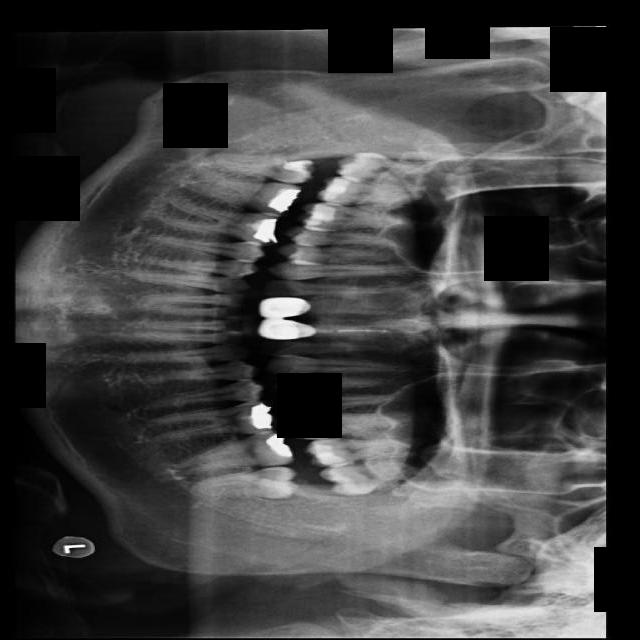3M ESPE Implant: (334, 150, 428, 188)
52: (242, 170, 302, 224), (241, 423, 296, 479), (255, 296, 315, 341), (247, 174, 300, 222), (300, 200, 348, 234), (228, 400, 272, 434), (317, 176, 365, 205), (237, 212, 277, 245), (269, 159, 316, 184), (238, 202, 261, 212), (233, 434, 254, 443), (240, 212, 262, 217), (217, 260, 232, 264), (222, 242, 238, 245), (225, 431, 243, 433)
73: (305, 322, 396, 337), (88, 598, 92, 610)
BioHorizons Implant: (304, 438, 409, 467)
BioLife Implant: (316, 452, 417, 502)
Biomet 3i Implant: (192, 464, 301, 510)
Blue Sky Bio Implant: (167, 428, 296, 476)
Caries: (318, 176, 425, 206)
Implant: (194, 176, 301, 219)
Keystone Dental Implant: (212, 153, 317, 186)
